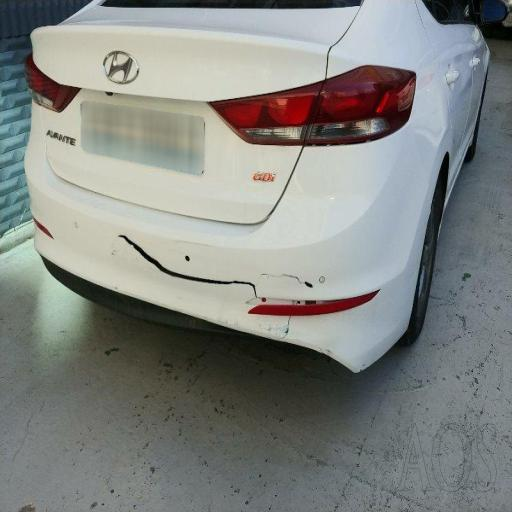broken: (109, 211, 254, 355)
scratch: (262, 251, 346, 348)
